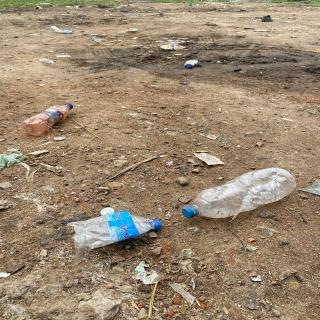Plastic-bottle: (179, 166, 299, 222), (66, 209, 167, 254), (20, 101, 78, 139)
